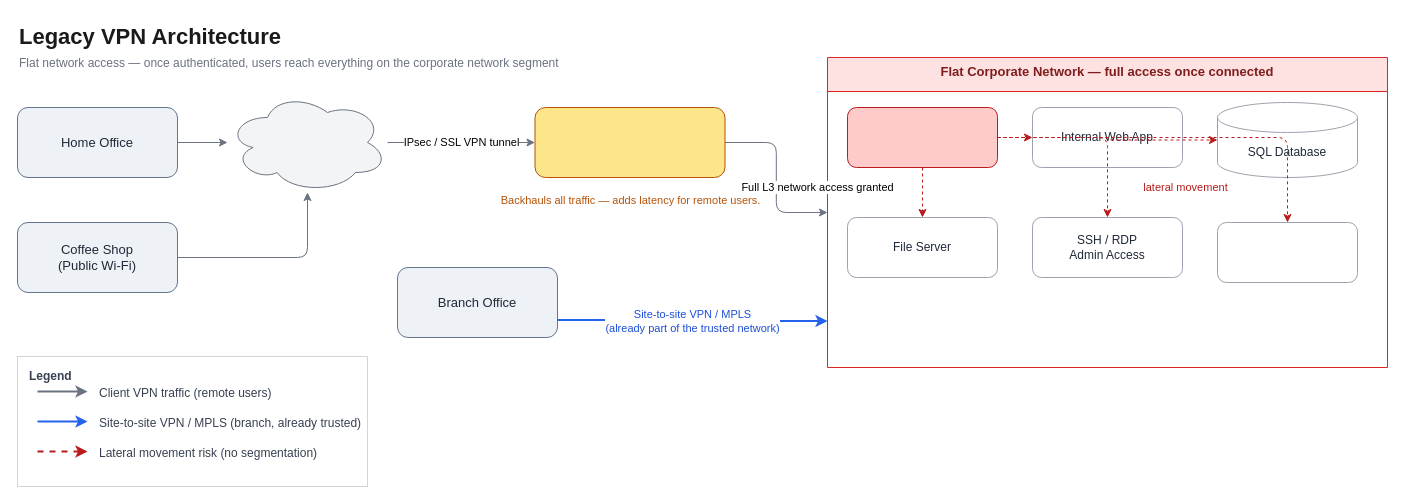
Some shapes in this 1405 by 504 pixel diagram are drawn without their labels. Here are the shapes that lost their labels. From the top down, the centre of each, then its label:
At (307,142): "Internet".
At (629,142): "VPN Concentrator (Corporate HQ / Data Center)".
At (922,137): "Compromised Laptop (stolen credentials)".
At (1287,252): "HR / Finance System".
